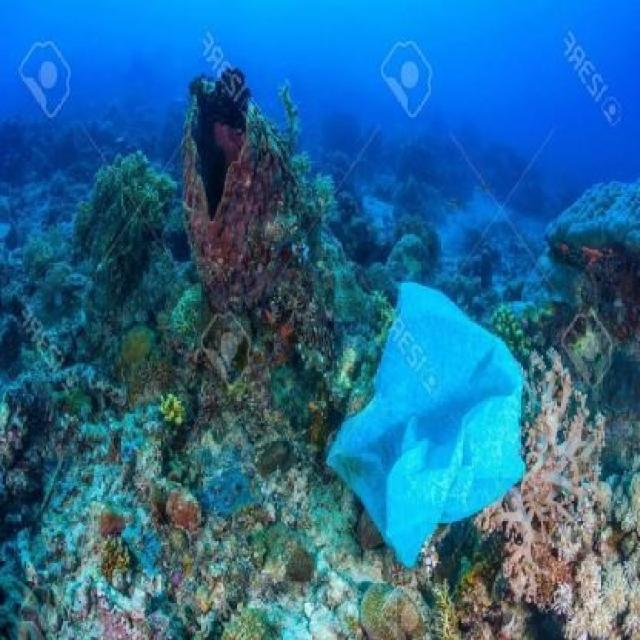pbag: (326, 280, 526, 572)
